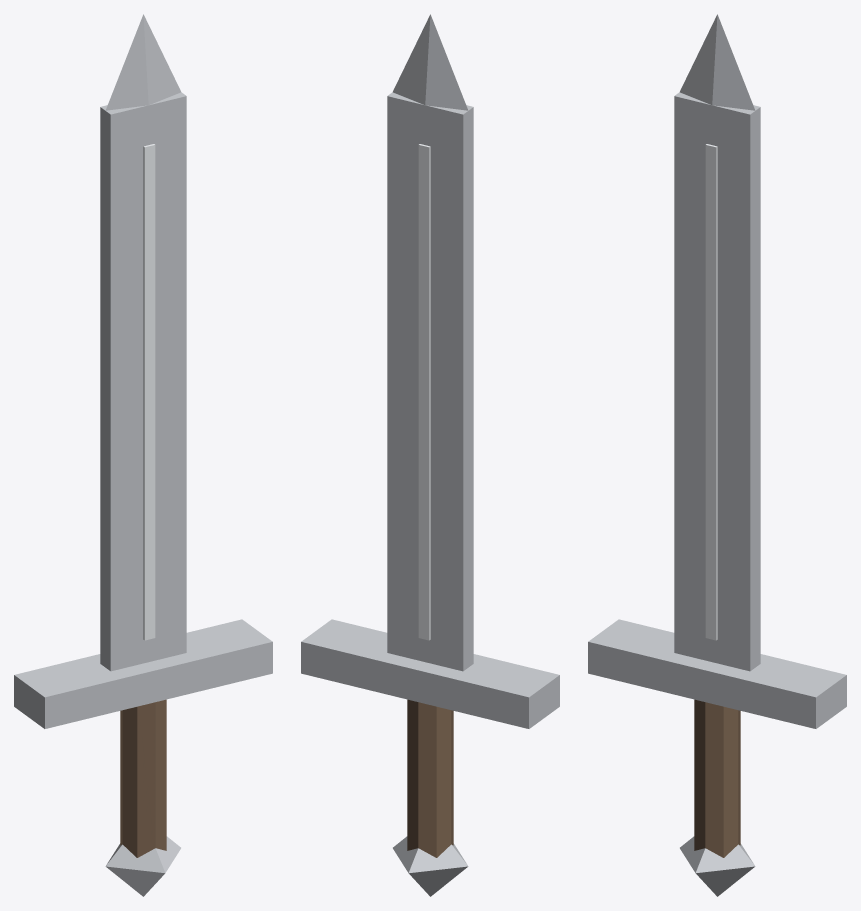
File: sword-silver.glb
3 views of the same model, side by side, from view 1: azimuth 30°, elevation 25°; view 2: azimuth 150°, elevation 25°; view 3: azimuth 330°, elevation 25° (orthographic).
Bounding box in the file's own units: 0.6 × 2.22 × 0.2.
